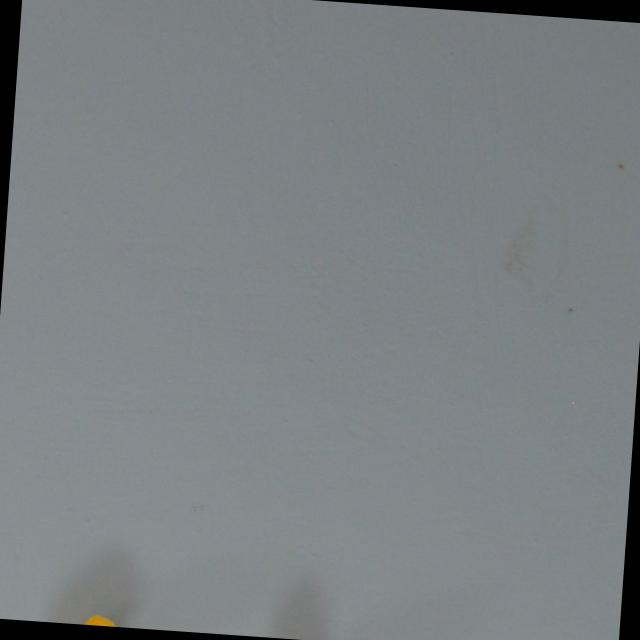pelicula: (33, 606, 141, 628)
